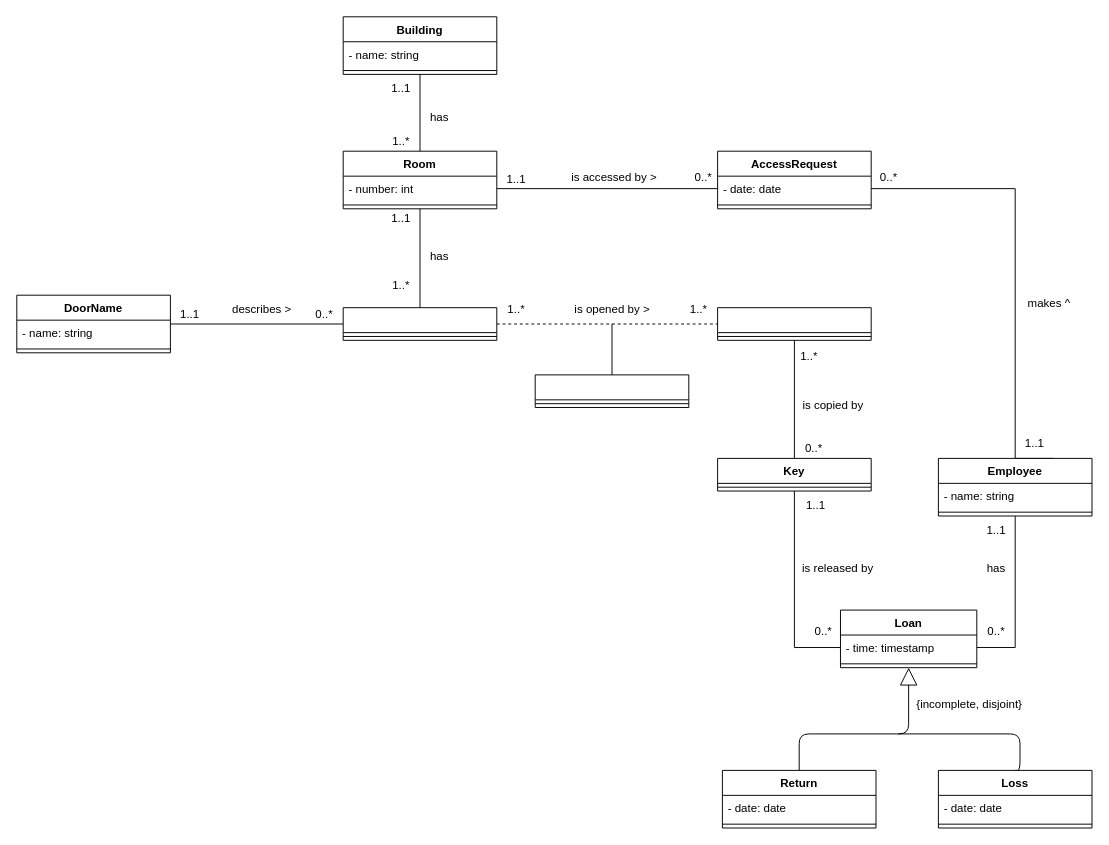
The diagram is 1109 pixels wide and 845 high, and some of its shapes have lost their labels. The centre of each missing label's shape, as x and y in pixels:
Door: point 419,323
Hook: point 794,323
Opening: point 611,391
